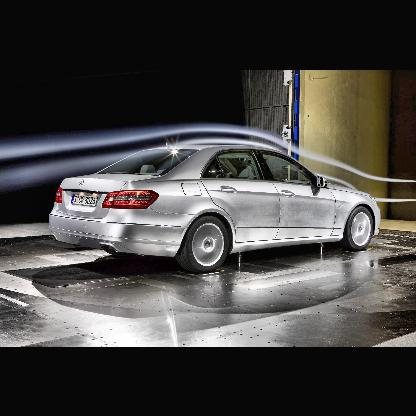Mercedes-Benz E-Class Sedan 2012: (49, 143, 383, 274)
